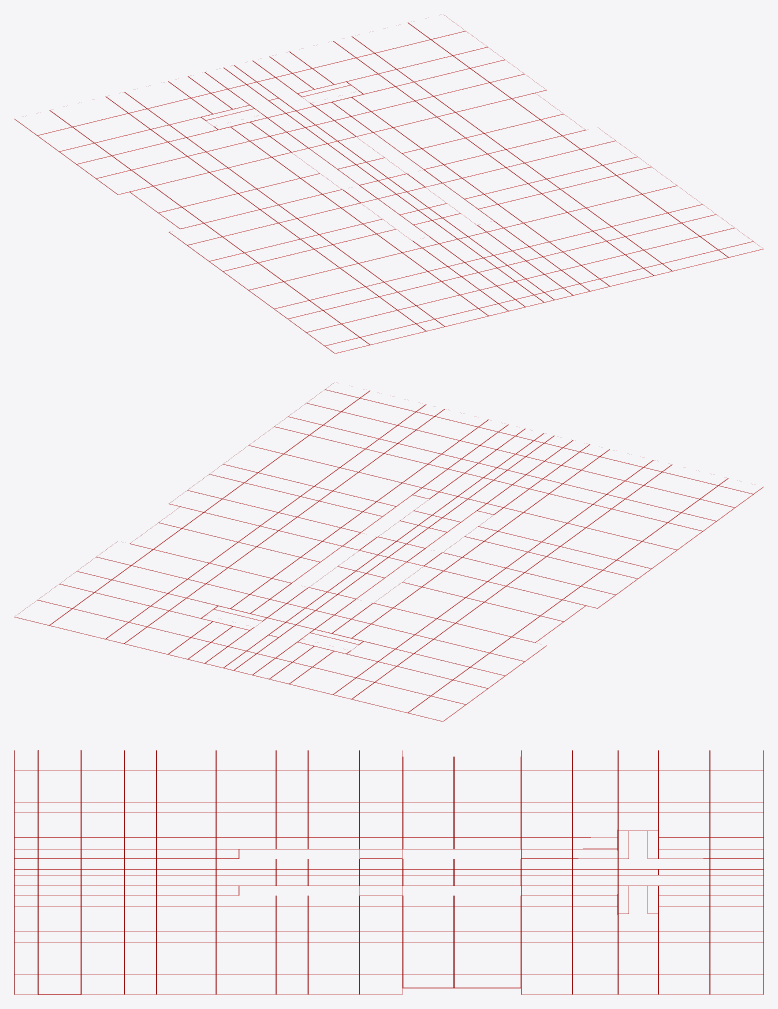
Rendered from Gatroom_FloorTiles_150822_Edges.fbx.
The picture shows the model from 3 angles, top to bottom: view 1: azimuth 30°, elevation 25°; view 2: azimuth 150°, elevation 25°; view 3: azimuth 270°, elevation 25°; orthographic projection. The views are drawn at different scales.
Visible parts, largest first — view 1: PreBevelClean.003; view 2: PreBevelClean.003; view 3: PreBevelClean.003.
Part boxes in pixels (x1=…): PreBevelClean.003: x1=14, y1=15, x2=763, y2=353; PreBevelClean.003: x1=14, y1=383, x2=763, y2=721; PreBevelClean.003: x1=14, y1=750, x2=763, y2=994.
Bounding box in the file's own units: 2272 × 0.9279 × 2943.
